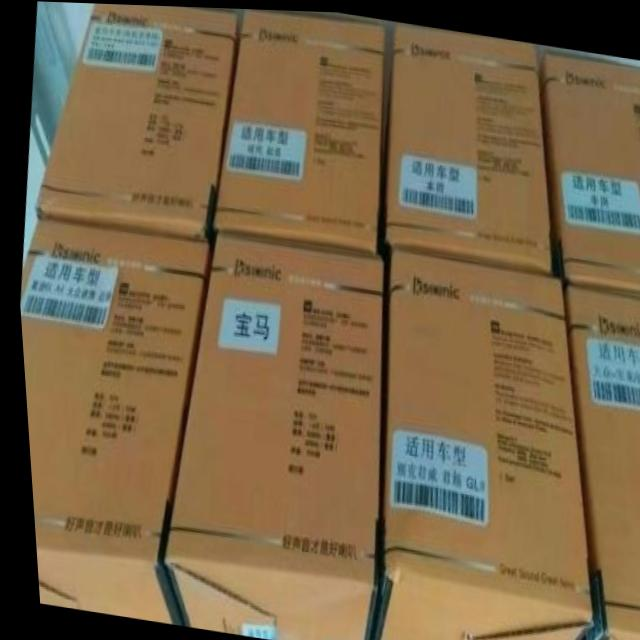box: (155, 231, 381, 640), (359, 249, 587, 640), (16, 215, 207, 622), (33, 3, 241, 239), (375, 19, 548, 267), (209, 10, 386, 247), (560, 280, 640, 640), (537, 47, 640, 292)
